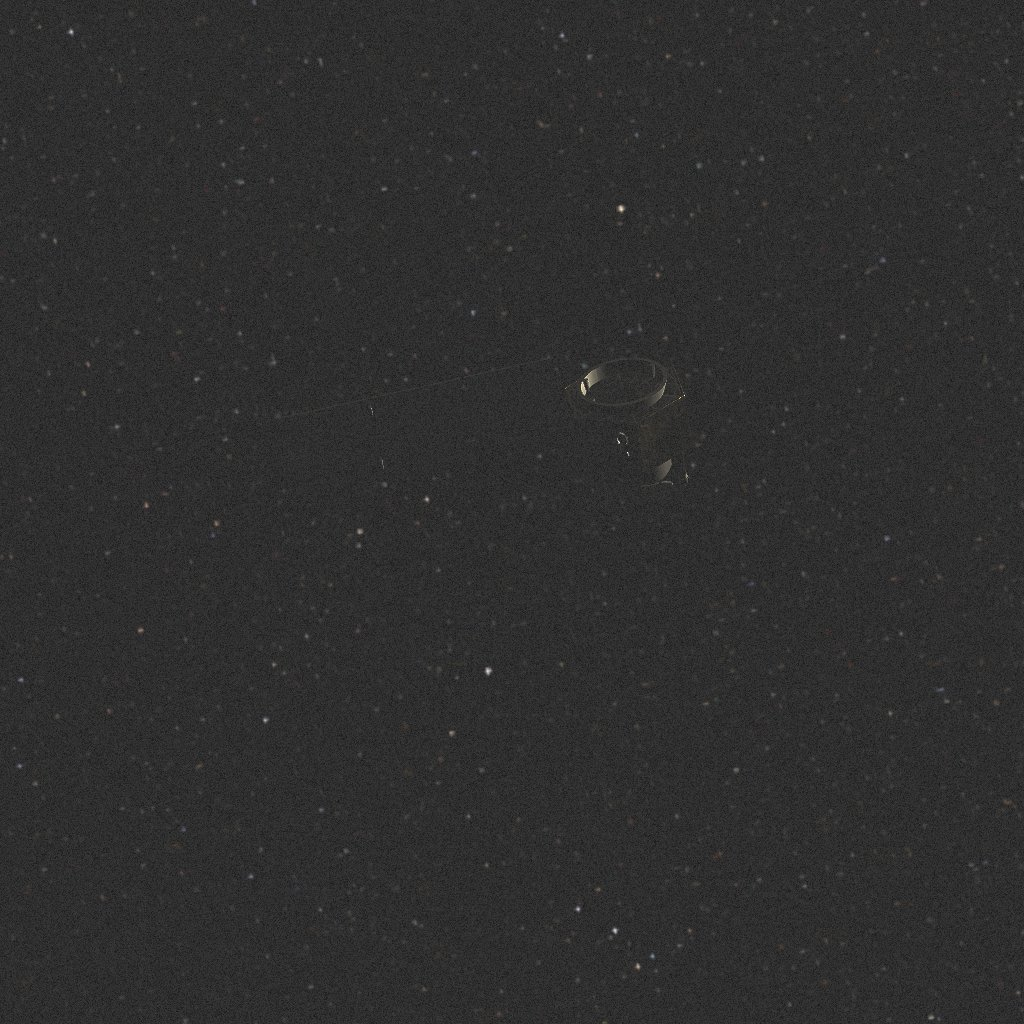earth_observation_sat_1: (293, 343, 714, 499)
